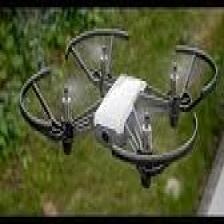drone: (18, 31, 216, 186)
